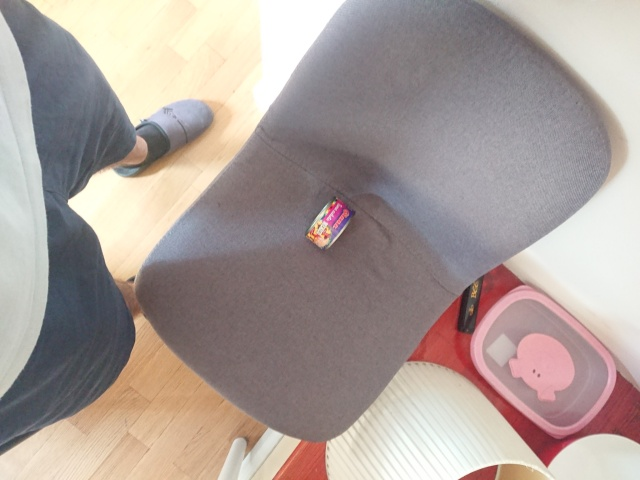Giana Tuna Salad Mexico 185g: (303, 193, 358, 253)
